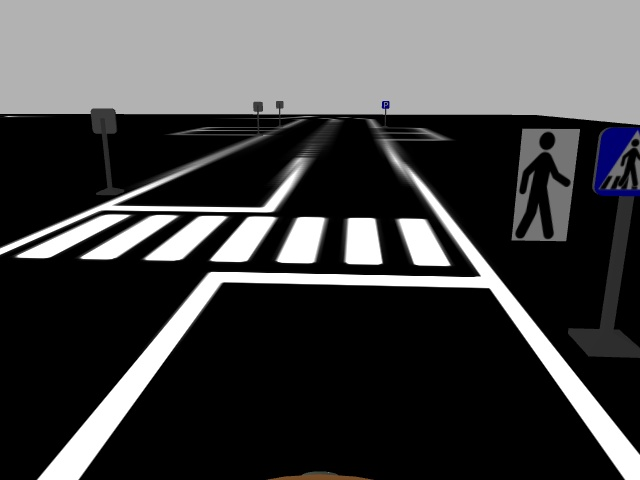parking: (379, 99, 391, 111)
pedestrian: (509, 126, 582, 242)
